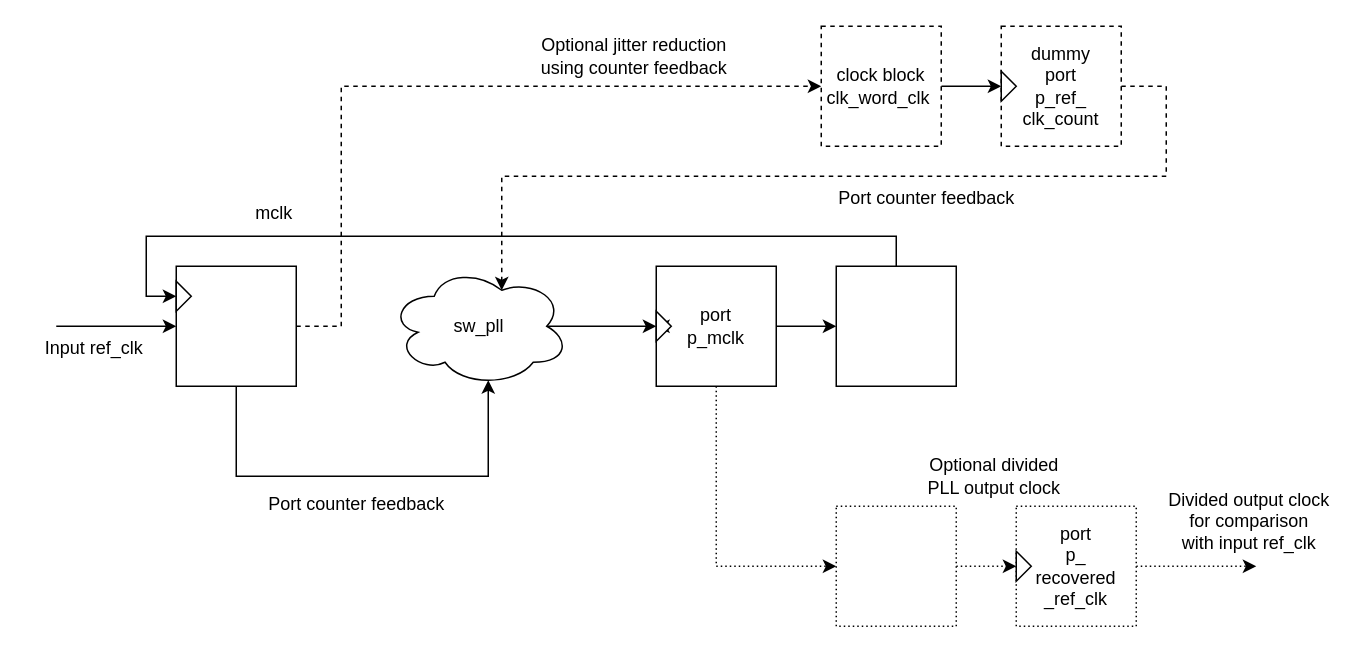
Some shapes in this 1371 by 653 pixel diagram are drawn without their labels. Each missing label, with the box of its shape:
clock block clk_mclk: (835, 265, 956, 386)
clock block clk_recovered _ref_clk: (835, 505, 956, 626)
port p_ref_clk_in: (175, 265, 296, 386)
